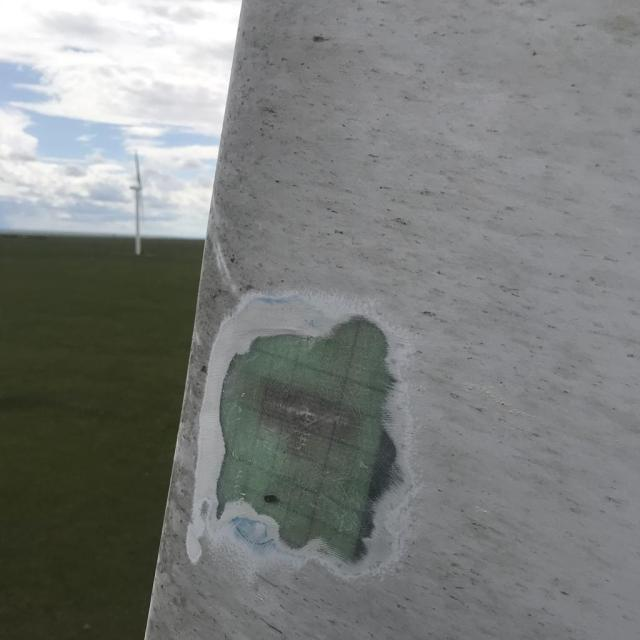surface_peeling: (197, 286, 406, 577)
